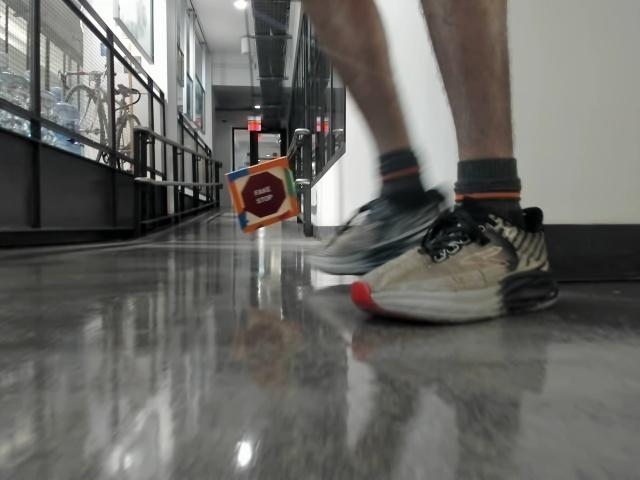Fake Stop: (235, 179, 281, 222)
